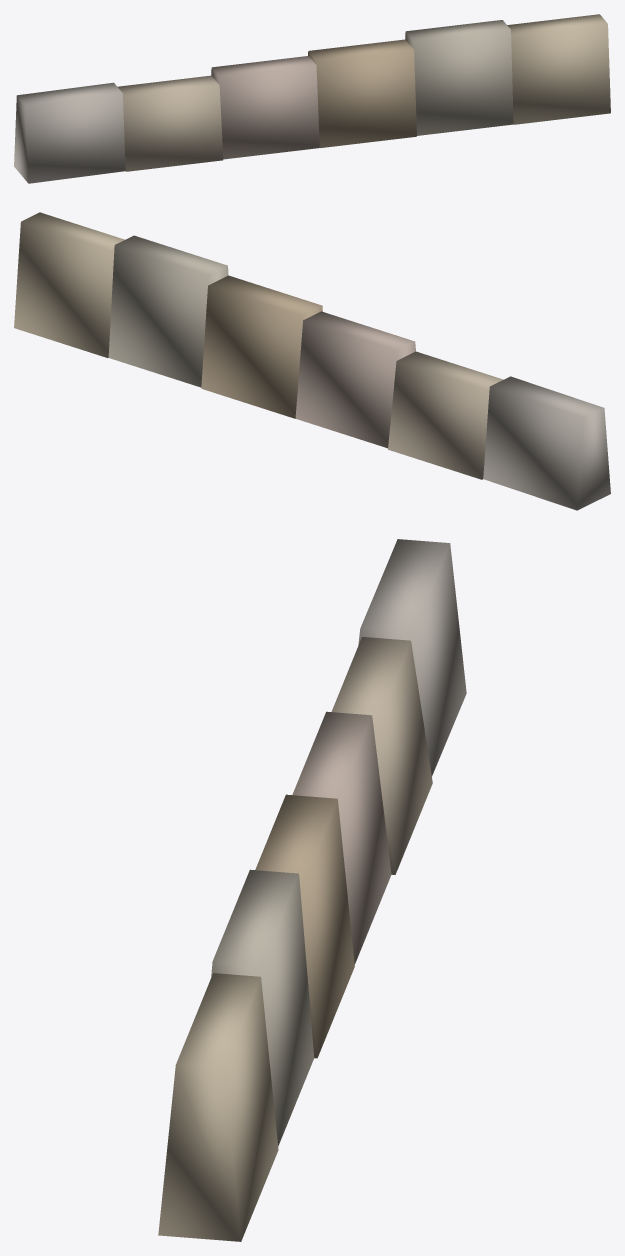
File: farm_16_17_collision.glb
3 views of the same model, one above another, from view 1: azimuth 30°, elevation 25°; view 2: azimuth 150°, elevation 25°; view 3: azimuth 270°, elevation 25° (orthographic). The views are drawn at different scales.
Parts seen in each view (by area): view 1: geometry_0; view 2: geometry_0; view 3: geometry_0.
Part boxes in pixels (box(x1,y1,x2,y2)): geometry_0: box(14, 14, 610, 183); geometry_0: box(14, 212, 610, 510); geometry_0: box(158, 539, 466, 1241).
Size of the model in its own units: 9.17 by 1.61 by 2.3.
